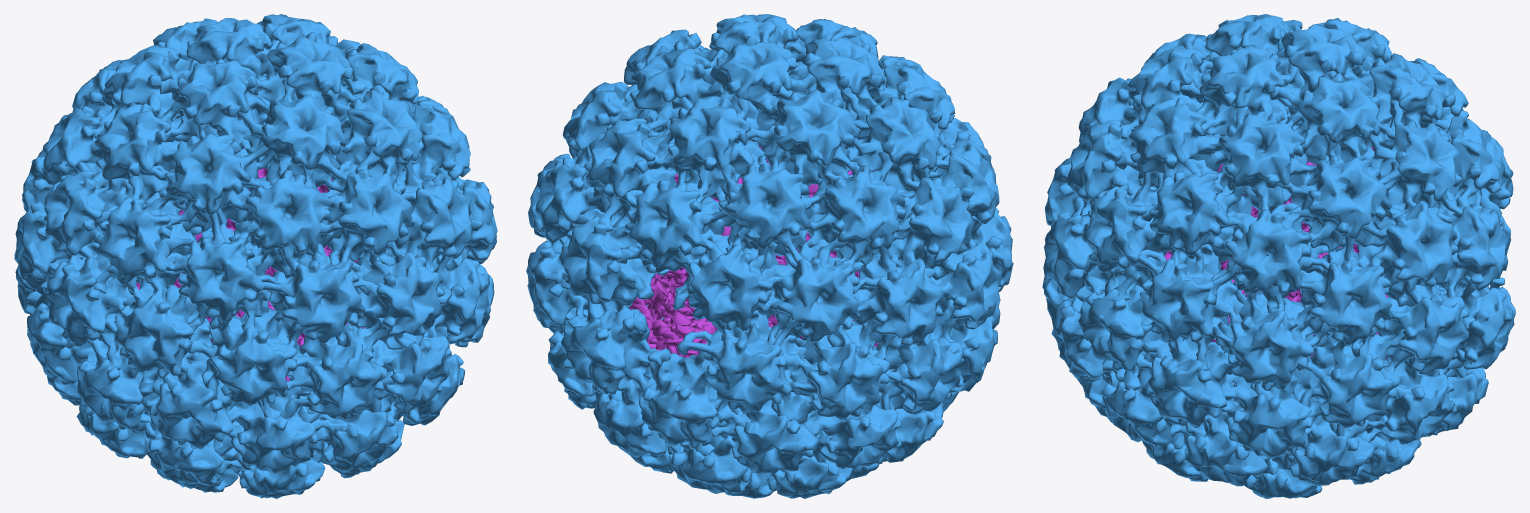
The model's file is papiloma.glb.
3 views of the same model, side by side, from view 1: azimuth 30°, elevation 25°; view 2: azimuth 150°, elevation 25°; view 3: azimuth 270°, elevation 25° (orthographic).
Parts seen in each view (by area): view 1: Cápside, ADN; view 2: Cápside, ADN; view 3: Cápside, ADN.
Part boxes in pixels (bbox=[...]): Cápside: bbox=[14, 14, 497, 498]; ADN: bbox=[136, 148, 396, 381]; Cápside: bbox=[526, 14, 1013, 498]; ADN: bbox=[629, 146, 878, 357]; Cápside: bbox=[1042, 14, 1515, 498]; ADN: bbox=[1164, 146, 1387, 359].
Size of the model in its own units: 13027 by 13107 by 12664.
